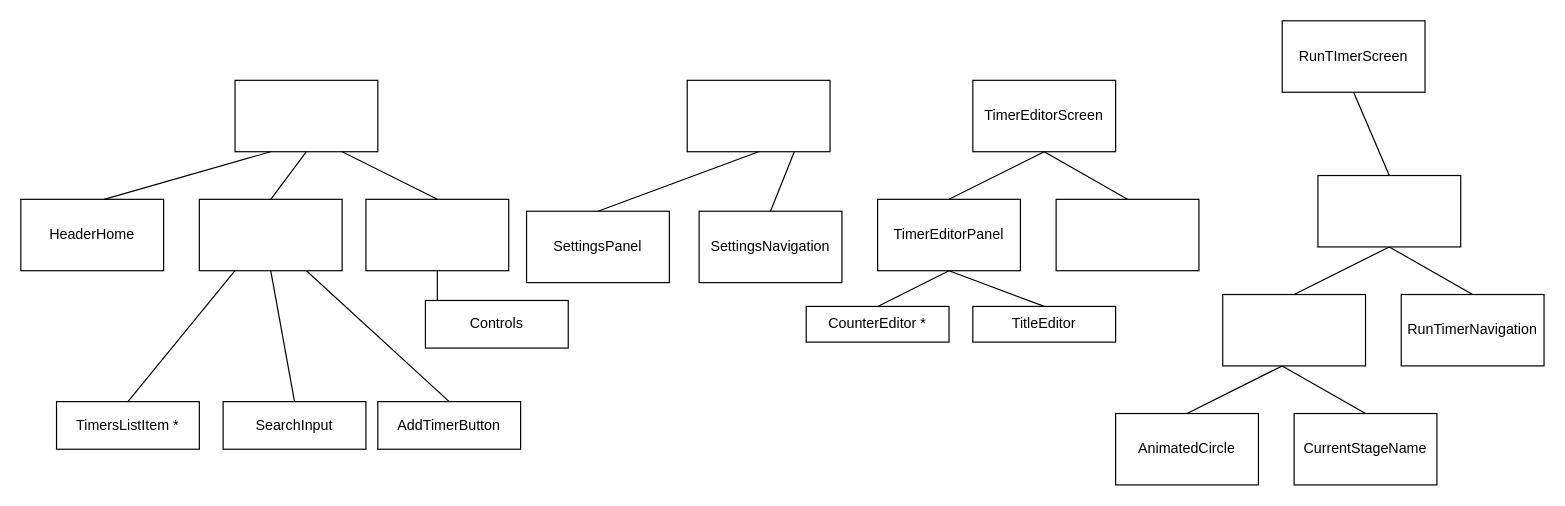
This 1565x506 diagram has some shape labels left out. The shapes that lost their labels are listed below. From the top down, each one's centre as x and y in pixels, then its label:
the point at 306,115: HomeScreen
the point at 758,115: SettingsScreen
the point at 1389,210: RunTimerPanel
the point at 270,234: TimersList
the point at 437,234: FooterHome
the point at 1127,234: TimerEditorControls
the point at 1294,329: TimerVisualizer
